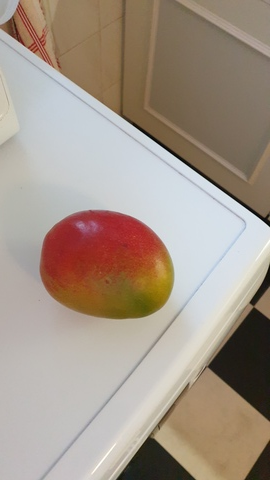Mango: (40, 210, 174, 320)
